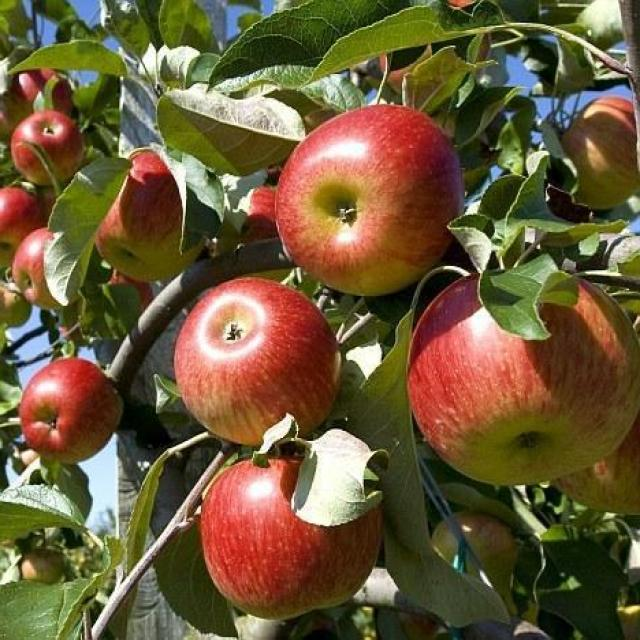Apple: (278, 108, 464, 300), (201, 459, 382, 619), (174, 277, 342, 447), (94, 151, 208, 280), (12, 230, 60, 309)
